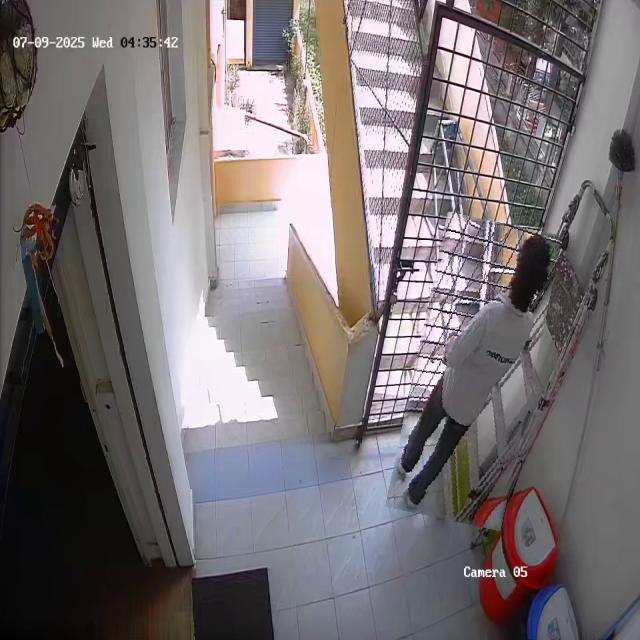person: (400, 217, 548, 527)
